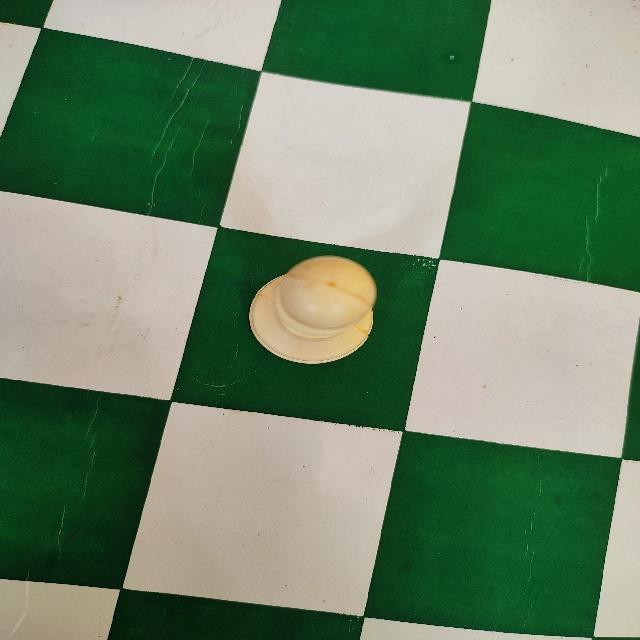Pawn: (240, 249, 410, 375)
